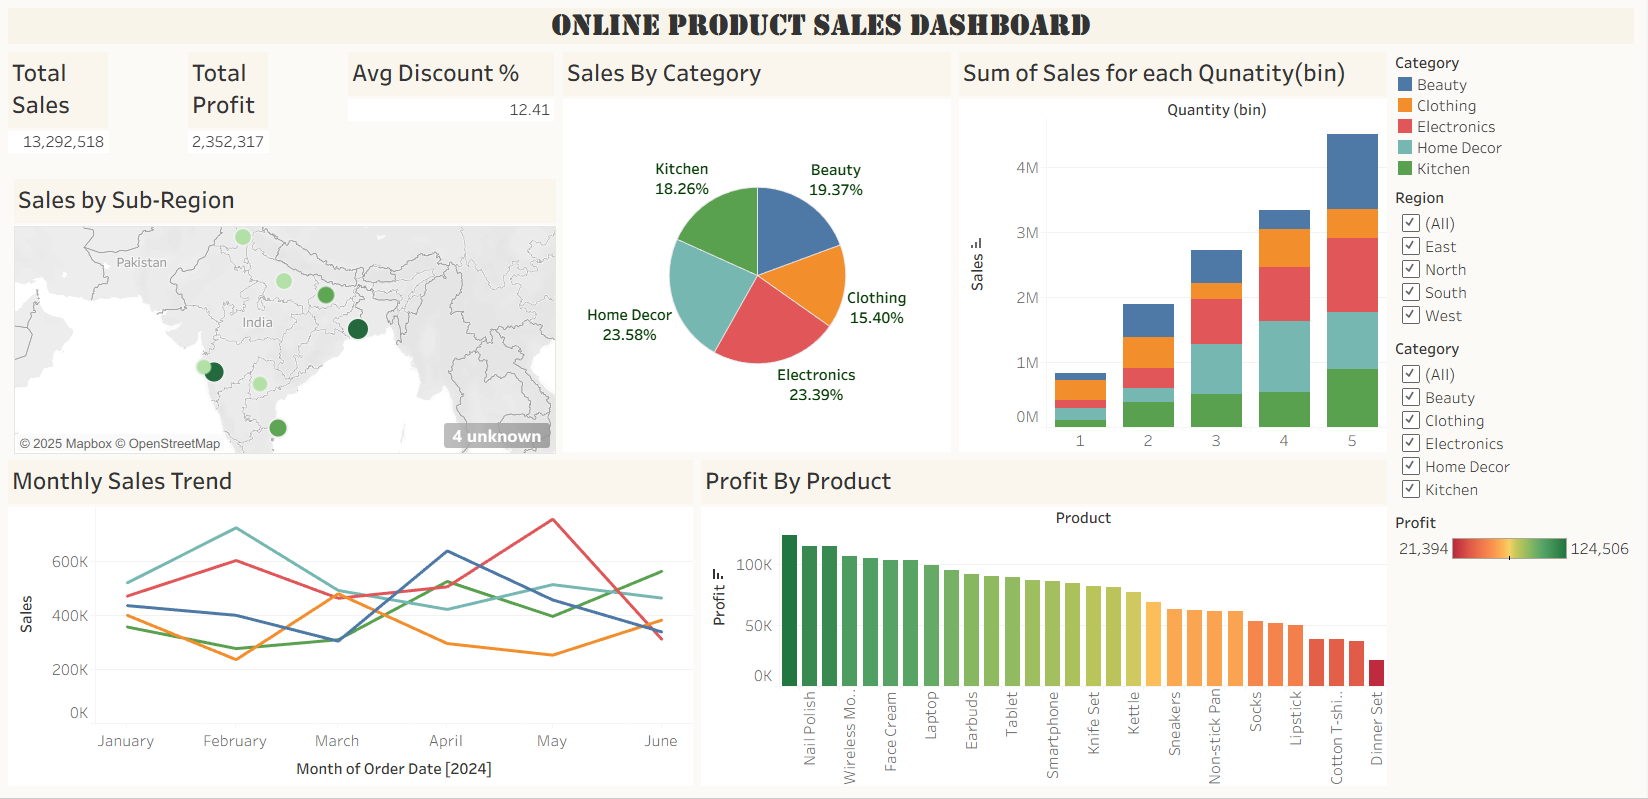

Layout of this report page (visuals, bound fields, positions):
{"tool":"tableau","page":{"name":"ONLINE PRODUCT SALES DASHBOARD","canvas":[1000,1000],"units":"permille","ordinal":0},"visuals":[{"type":"title","box":[4.9,10.2,990.2,56.1]},{"type":"worksheet","title":"Total Sales","mark":"Automatic","box":[4.9,66.2,108.9,508.2]},{"type":"worksheet","title":"Total Profit","mark":"Automatic","box":[113.8,66.2,97.2,508.2]},{"type":"worksheet","title":"Avg Discount %","mark":"Automatic","box":[211,66.2,129.7,508.2]},{"type":"worksheet","title":"Sales By Category","mark":"Pie","box":[340.7,66.2,240.1,508.2]},{"type":"worksheet","title":"Sum of Sales for each Qunatity(bin)","mark":"Automatic","rows":["Final Sales"],"cols":["Quantity (bin)"],"box":[580.8,66.2,263.8,508.2]},{"type":"legend","title":"Monthly Sales Trend","param":"[federated.1h541wr0xbplp81703fem0b2yhdk].[none:Category:nk]","box":[844.6,66.2,150.5,172]},{"type":"worksheet","title":"Sales by Sub-Region","mark":"Automatic","box":[10.9,228.5,328.3,343.3]},{"type":"filter","title":"Profit By Product","param":"[federated.1h541wr0xbplp81703fem0b2yhdk].[none:Region:nk]","box":[844.6,238.2,150.5,192.4]},{"type":"filter","title":"Profit By Product","param":"[federated.1h541wr0xbplp81703fem0b2yhdk].[none:Category:nk]","box":[844.6,430.6,150.5,221.7]},{"type":"worksheet","title":"Monthly Sales Trend","mark":"Automatic","rows":["Final Sales"],"cols":["Order Date"],"box":[4.9,574.4,419.7,415.4]},{"type":"worksheet","title":"Profit By Product","mark":"Automatic","rows":["Profit"],"cols":["Product"],"box":[424.6,574.4,420,415.4]},{"type":"legend","title":"Profit By Product","param":"[federated.1h541wr0xbplp81703fem0b2yhdk].[sum:Profit:qk]","box":[844.6,652.2,150.5,93]}]}

Visuals, with their boxes on the dashboard's canvas, which has no fixed pixel size, in thousandths of its width and height (x1, y1, x2, y2). These are canvas units, not pixel positions in the 1648x799 screenshot, which may show the page scaled, cropped or inside an application window:
title: detection(5, 10, 995, 66)
"Total Sales" worksheet: detection(5, 66, 114, 574)
"Total Profit" worksheet: detection(114, 66, 211, 574)
"Avg Discount %" worksheet: detection(211, 66, 341, 574)
"Sales By Category" worksheet (Pie marks): detection(341, 66, 581, 574)
"Sum of Sales for each Qunatity(bin)" worksheet: detection(581, 66, 845, 574)
"Monthly Sales Trend" legend: detection(845, 66, 995, 238)
"Sales by Sub-Region" worksheet: detection(11, 228, 339, 572)
"Profit By Product" filter: detection(845, 238, 995, 431)
"Profit By Product" filter: detection(845, 431, 995, 652)
"Monthly Sales Trend" worksheet: detection(5, 574, 425, 990)
"Profit By Product" worksheet: detection(425, 574, 845, 990)
"Profit By Product" legend: detection(845, 652, 995, 745)
